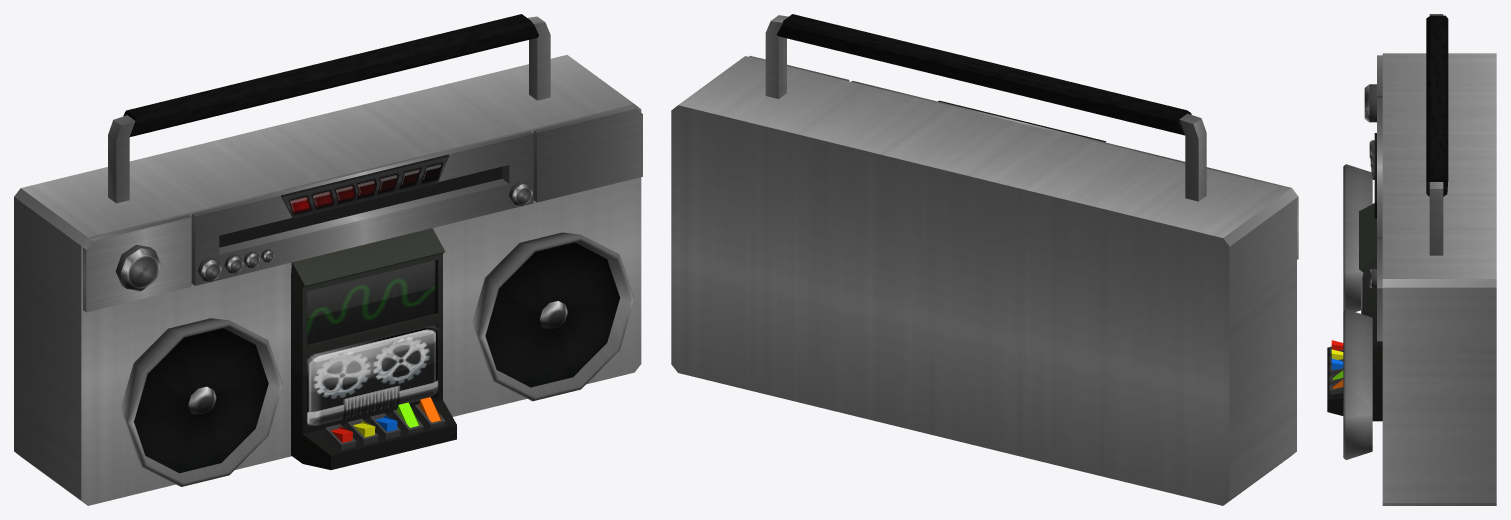
Rendered from Boombox_C.FBX.
3 renders of one model, left to right at view 1: azimuth 30°, elevation 25°; view 2: azimuth 150°, elevation 25°; view 3: azimuth 270°, elevation 25°, orthographic. The views are drawn at different scales.
Parts seen in each view (by area): view 1: Boombox; view 2: Boombox; view 3: Boombox.
Boxes of the visible parts, x1,y1,x2,y2 form: Boombox: (14, 14, 642, 505); Boombox: (671, 14, 1298, 505); Boombox: (1327, 14, 1496, 505).
Bounding box in the file's own units: 120 × 71.63 × 37.15.
